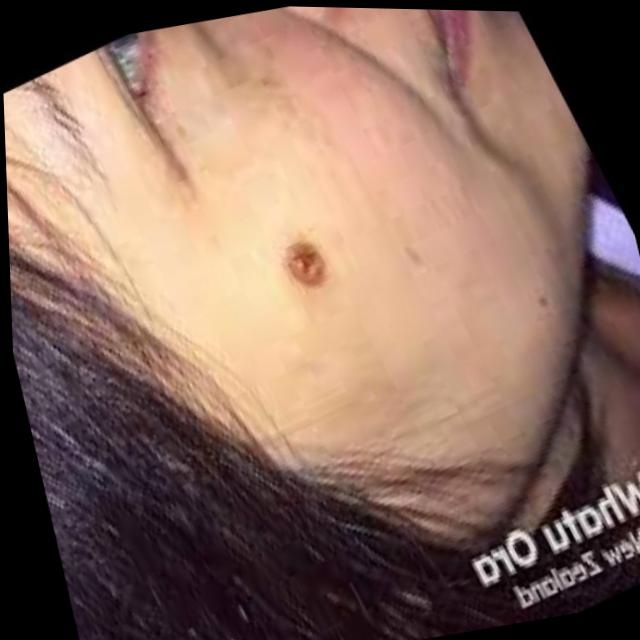Eczema: (274, 230, 332, 288)
